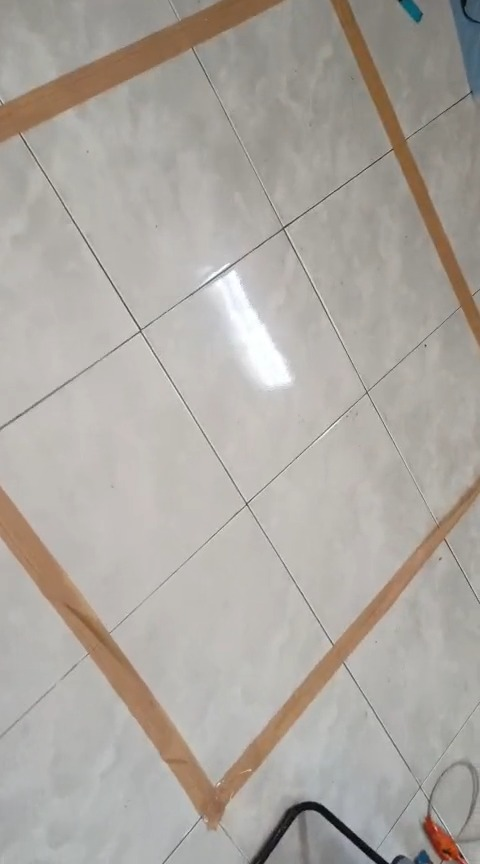floor marking: (0, 479, 479, 827), (332, 0, 479, 340), (0, 0, 283, 142)
